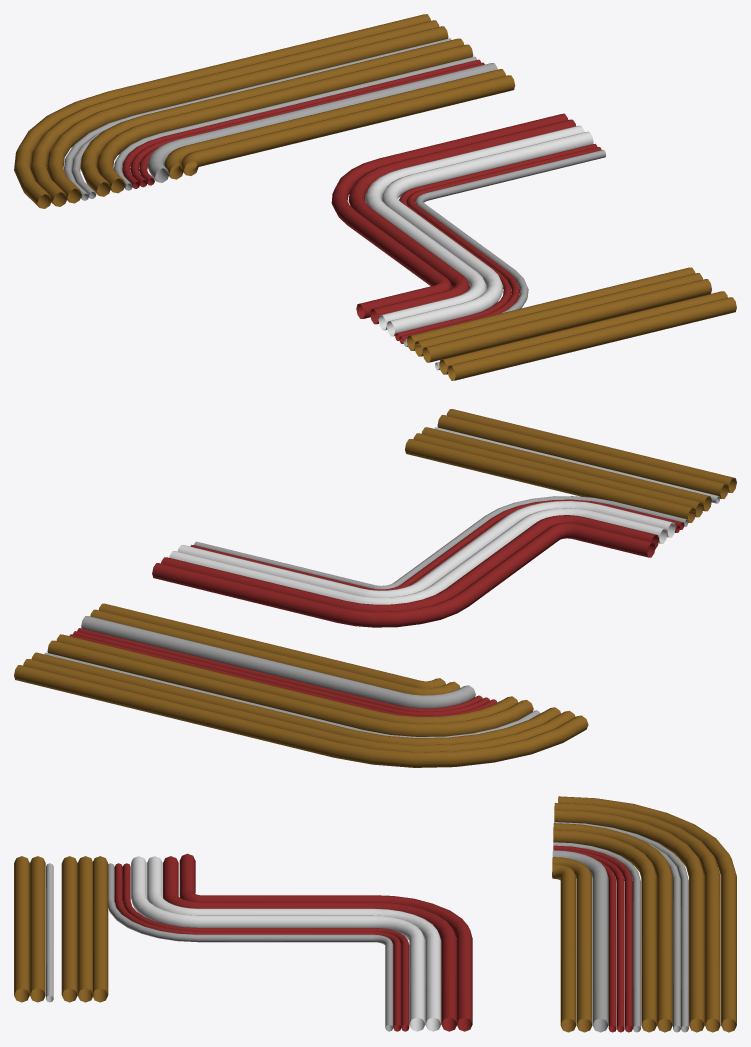
The picture shows the model from 3 angles, top to bottom: view 1: azimuth 30°, elevation 25°; view 2: azimuth 150°, elevation 25°; view 3: azimuth 270°, elevation 25°; orthographic projection. The views are drawn at different scales.
Visible parts, largest first — view 1: SM_H_Building_FutureTech_HBlack_01_InterWall_04B; view 2: SM_H_Building_FutureTech_HBlack_01_InterWall_04B; view 3: SM_H_Building_FutureTech_HBlack_01_InterWall_04B.
Boxes of the visible parts, box(x1,y1,x2,y2) form: SM_H_Building_FutureTech_HBlack_01_InterWall_04B: box(14, 14, 736, 380); SM_H_Building_FutureTech_HBlack_01_InterWall_04B: box(14, 409, 736, 767); SM_H_Building_FutureTech_HBlack_01_InterWall_04B: box(14, 796, 736, 1032).
Size of the model in its own units: 164 by 121 by 3.81.
